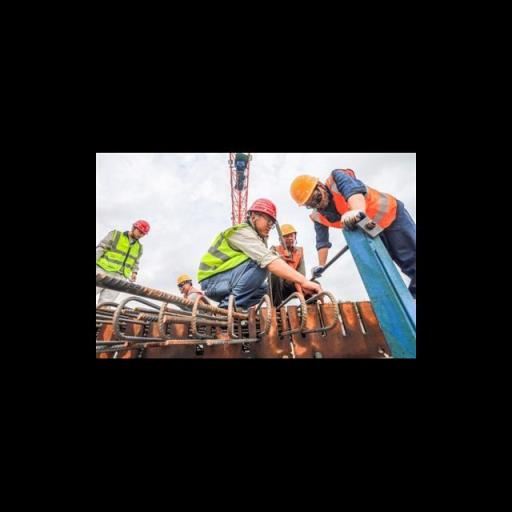Person: (274, 163, 424, 267), (190, 178, 296, 320), (98, 198, 163, 321)
helmet: (284, 168, 322, 208), (234, 194, 285, 222), (169, 270, 193, 290), (133, 218, 154, 239), (276, 222, 300, 240)
vest: (314, 168, 404, 246), (188, 221, 258, 281), (106, 220, 139, 282)
